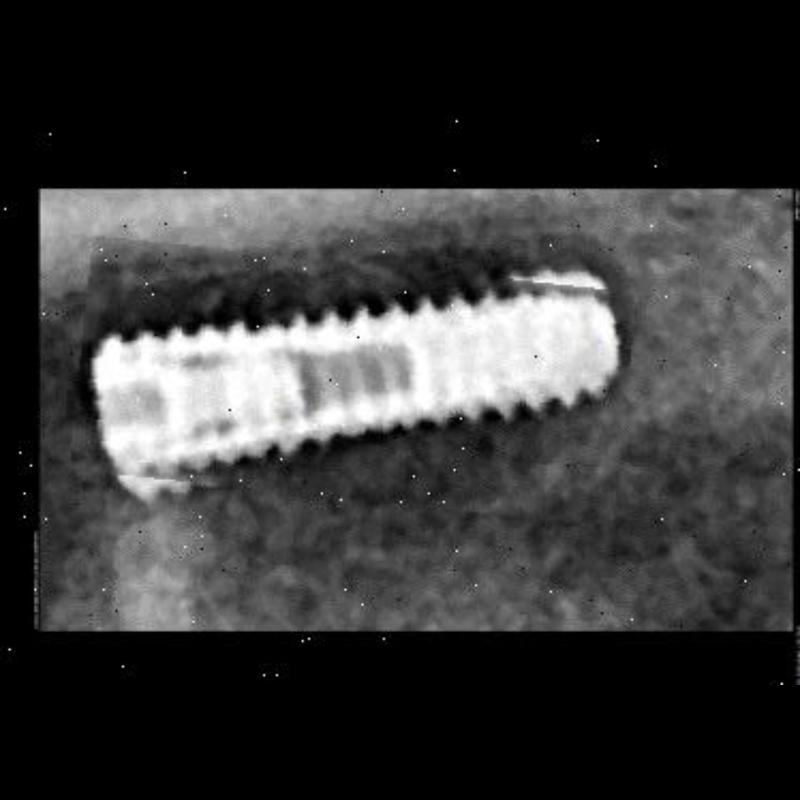osstem: (75, 251, 633, 513)
